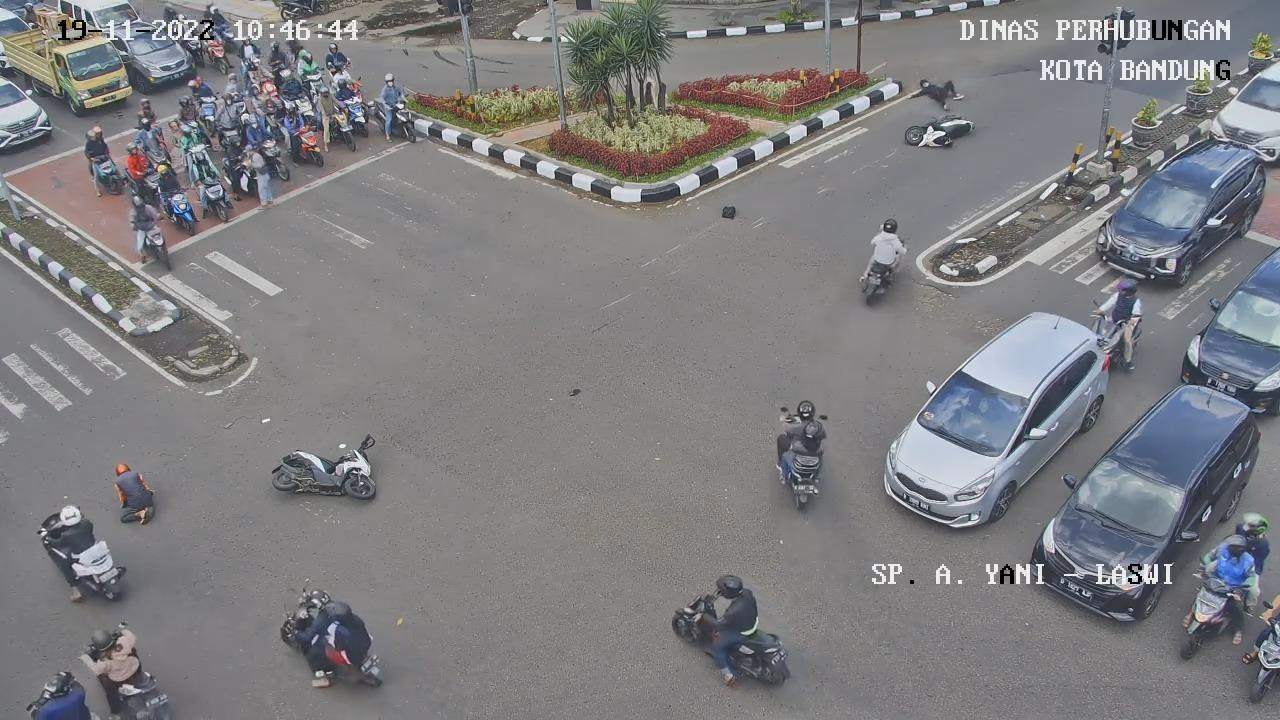accident: (106, 453, 165, 539), (906, 78, 965, 112)
